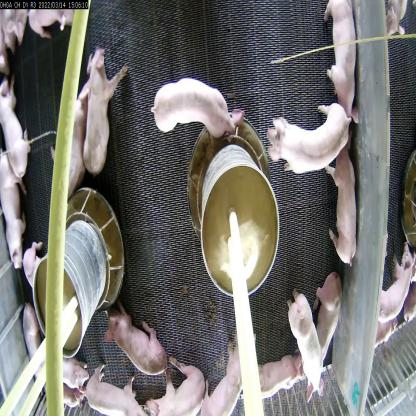Pig: (153, 67, 242, 153), (265, 99, 349, 173), (80, 47, 130, 168), (288, 304, 337, 411), (328, 136, 366, 268), (0, 70, 33, 204), (326, 1, 360, 125), (48, 106, 91, 200), (197, 333, 247, 412), (314, 270, 347, 388), (2, 154, 28, 285), (146, 366, 210, 416), (112, 319, 170, 368), (87, 370, 144, 415), (378, 246, 410, 318), (251, 348, 308, 388), (21, 306, 44, 385), (51, 356, 96, 394)
